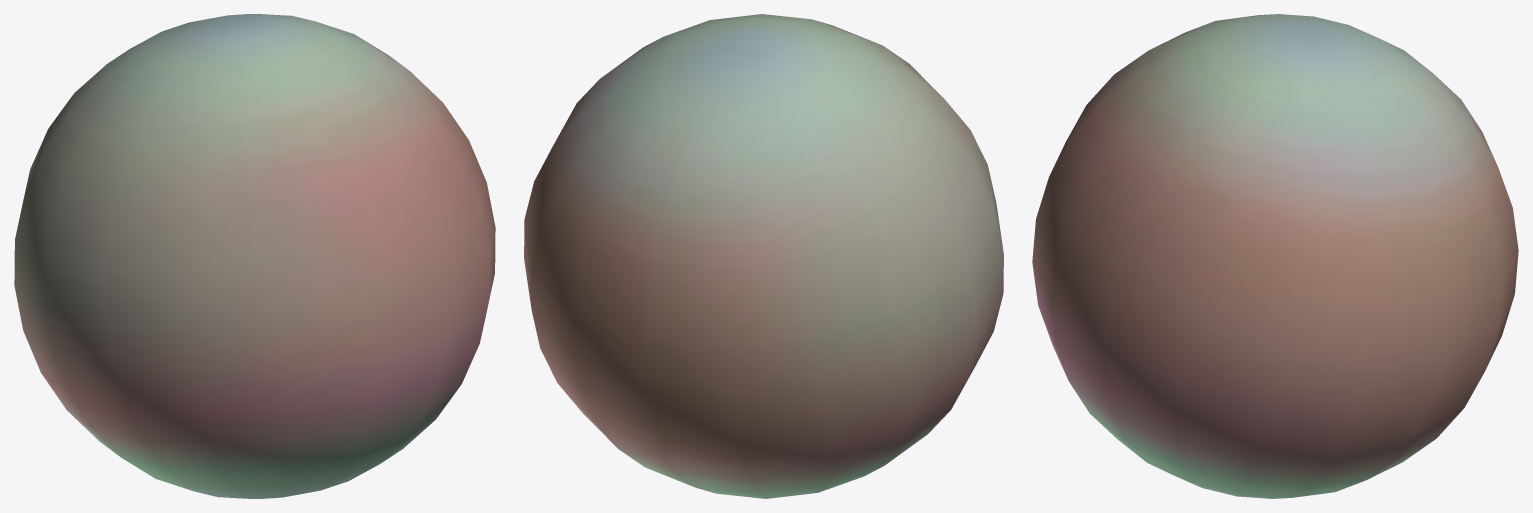
File: pearl.glb
3 views of the same model, side by side, from view 1: azimuth 30°, elevation 25°; view 2: azimuth 150°, elevation 25°; view 3: azimuth 270°, elevation 25° (orthographic).
Bounding box in the file's own units: 2.39 × 2.39 × 2.39.
Materials: 1 (1 with a texture image).
